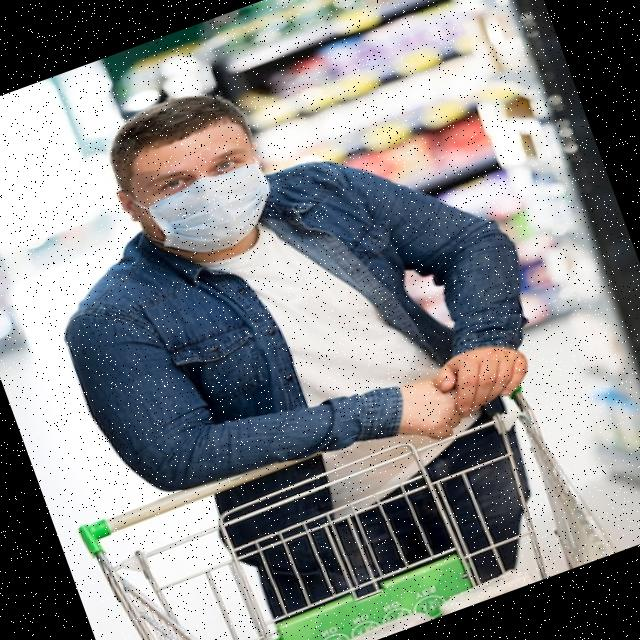Person: (0, 3, 623, 640)
